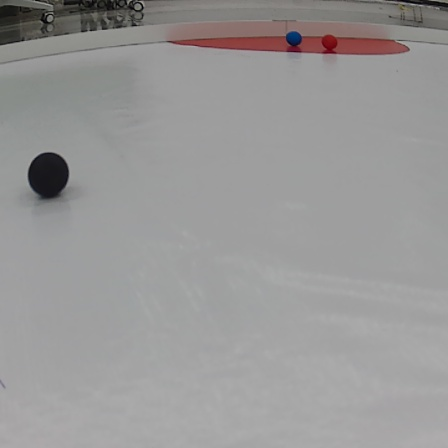black: (26, 155, 72, 198)
blue: (287, 31, 301, 46)
red: (320, 33, 339, 50)
red_base: (178, 32, 413, 61)
